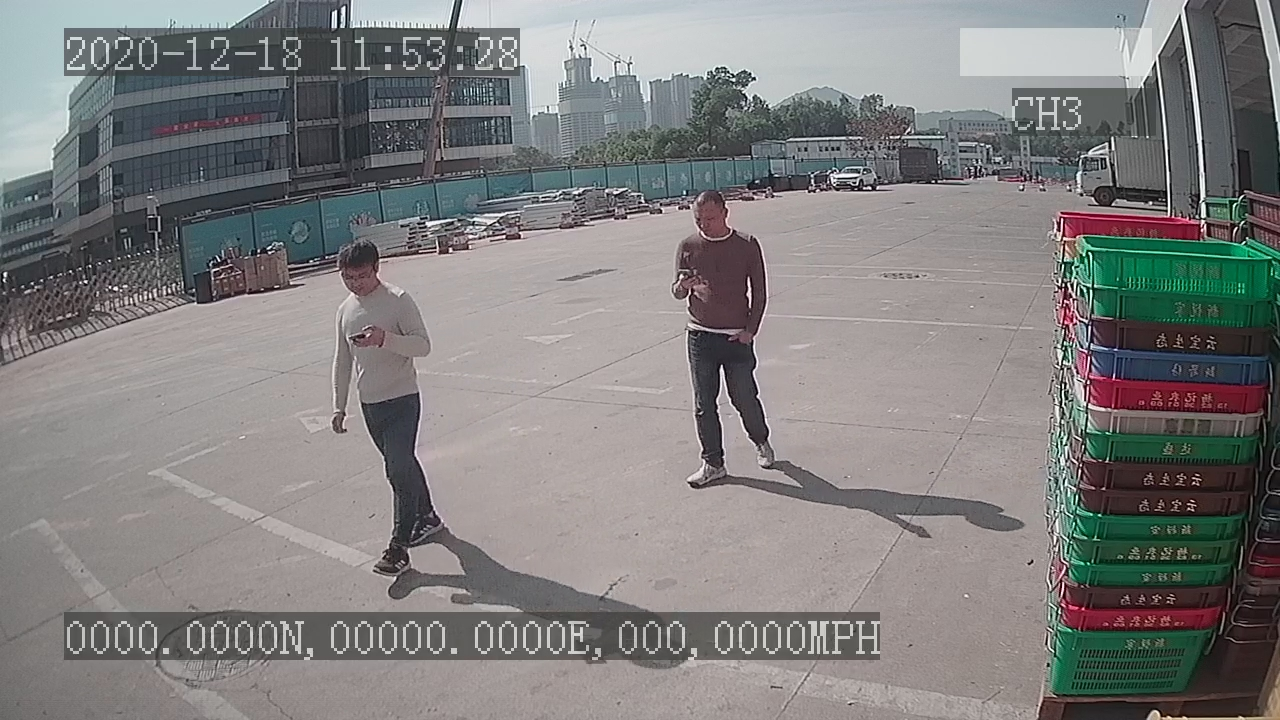person: (317, 235, 451, 583), (661, 185, 779, 495)
